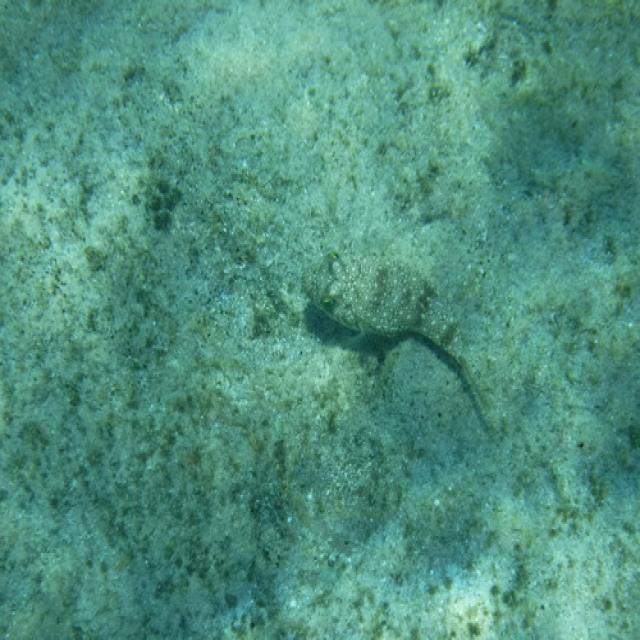Balik: (304, 251, 486, 426)
